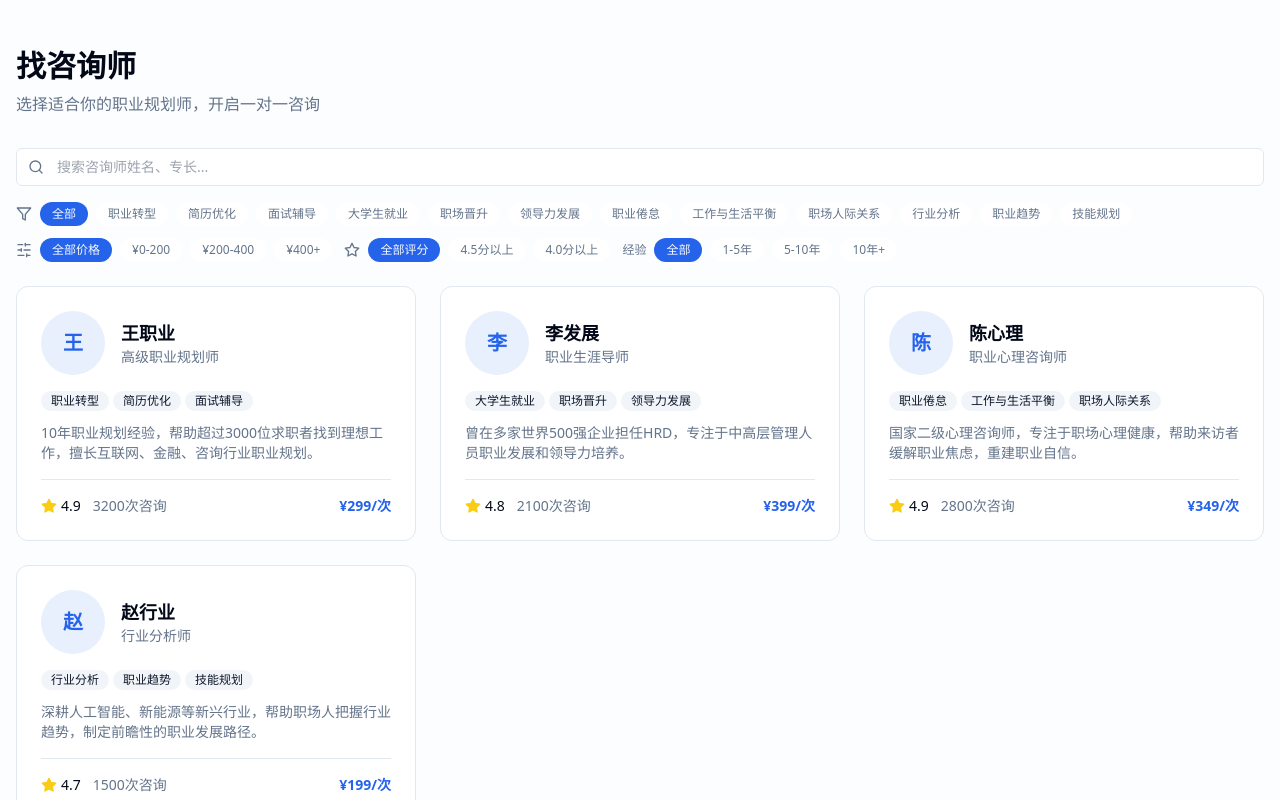
Scenario: Counselors Page › filters counselors by experience
Click the button "10年+".
click(869, 250)  # box [840,238,897,262]
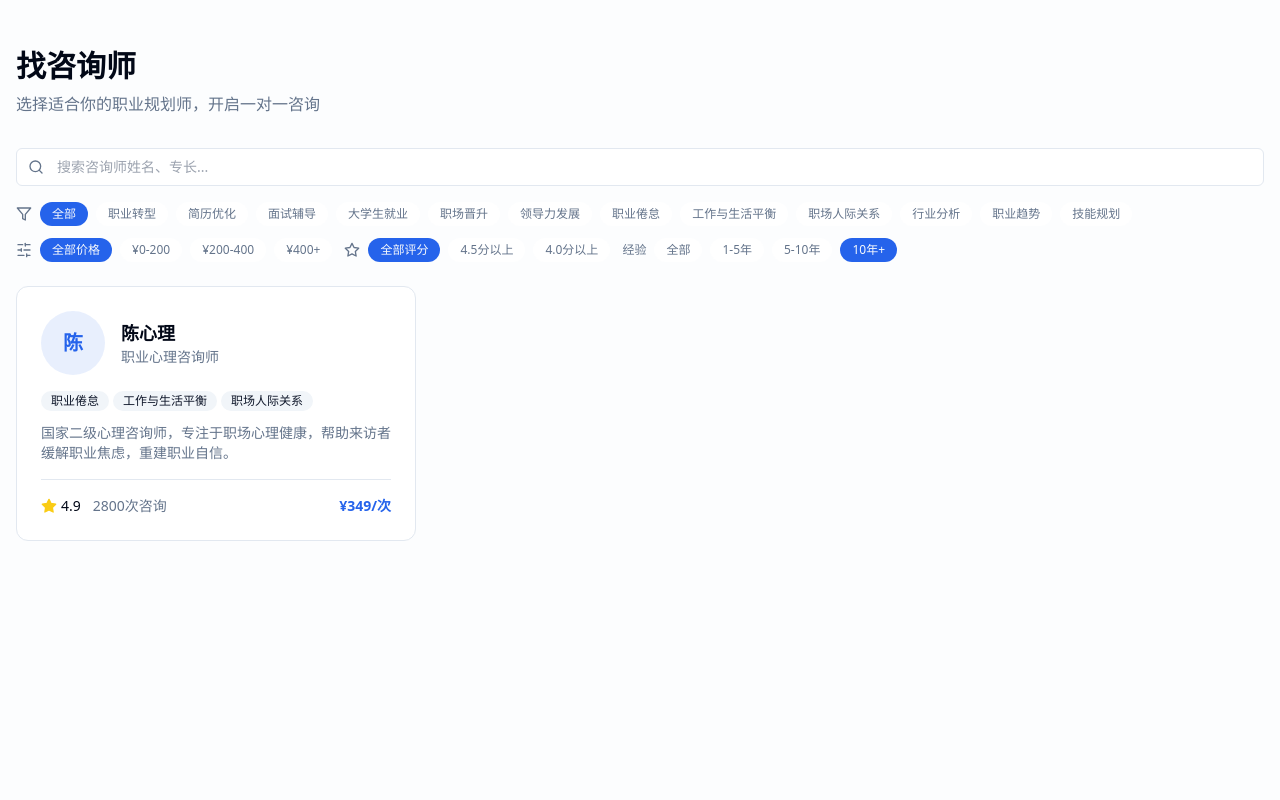
Now the link "¥299/次" is gone
